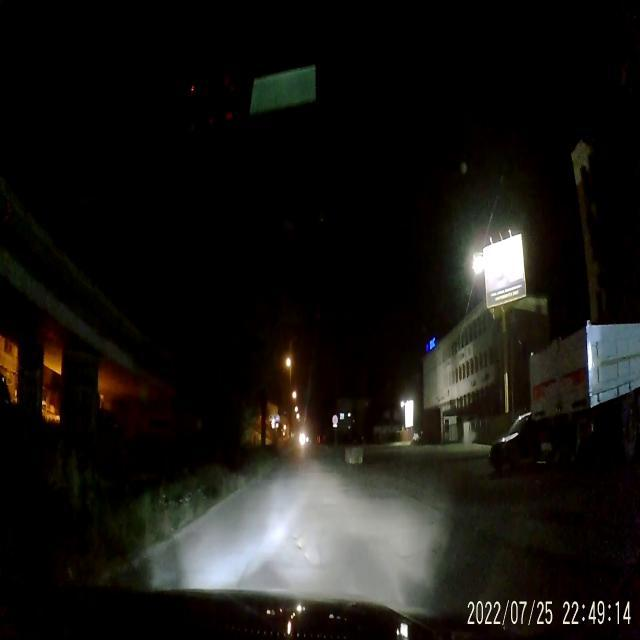Pothole: (292, 529, 318, 567)
